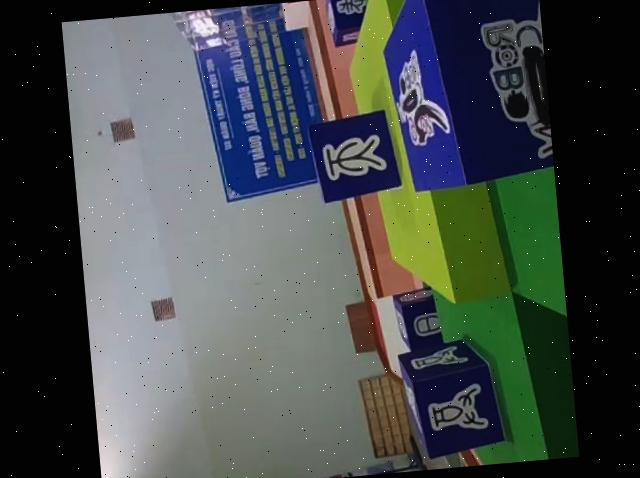R1 Blue: (370, 0, 555, 193)
R2 Fake Blue: (307, 108, 404, 205), (393, 285, 447, 355), (325, 0, 370, 44)
R2 Real Blue: (397, 334, 509, 459)
